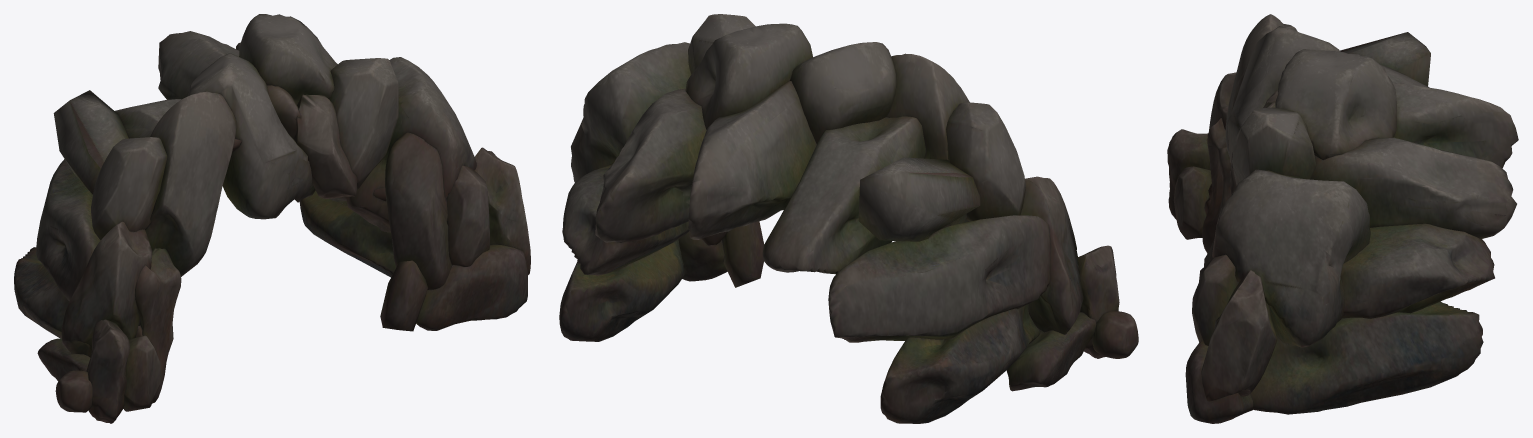
Rendered from cave002.fbx.
3 views of the same model, side by side, from view 1: azimuth 30°, elevation 25°; view 2: azimuth 150°, elevation 25°; view 3: azimuth 270°, elevation 25° (orthographic). The views are drawn at different scales.
Visible parts, largest first — view 1: Cube.015; view 2: Cube.015; view 3: Cube.015.
Part boxes in pixels (<box>): Cube.015: <box>14,14,530,423</box>; Cube.015: <box>559,14,1138,423</box>; Cube.015: <box>1167,14,1518,423</box>.
Size of the model in its own units: 1053 by 609 by 665.
